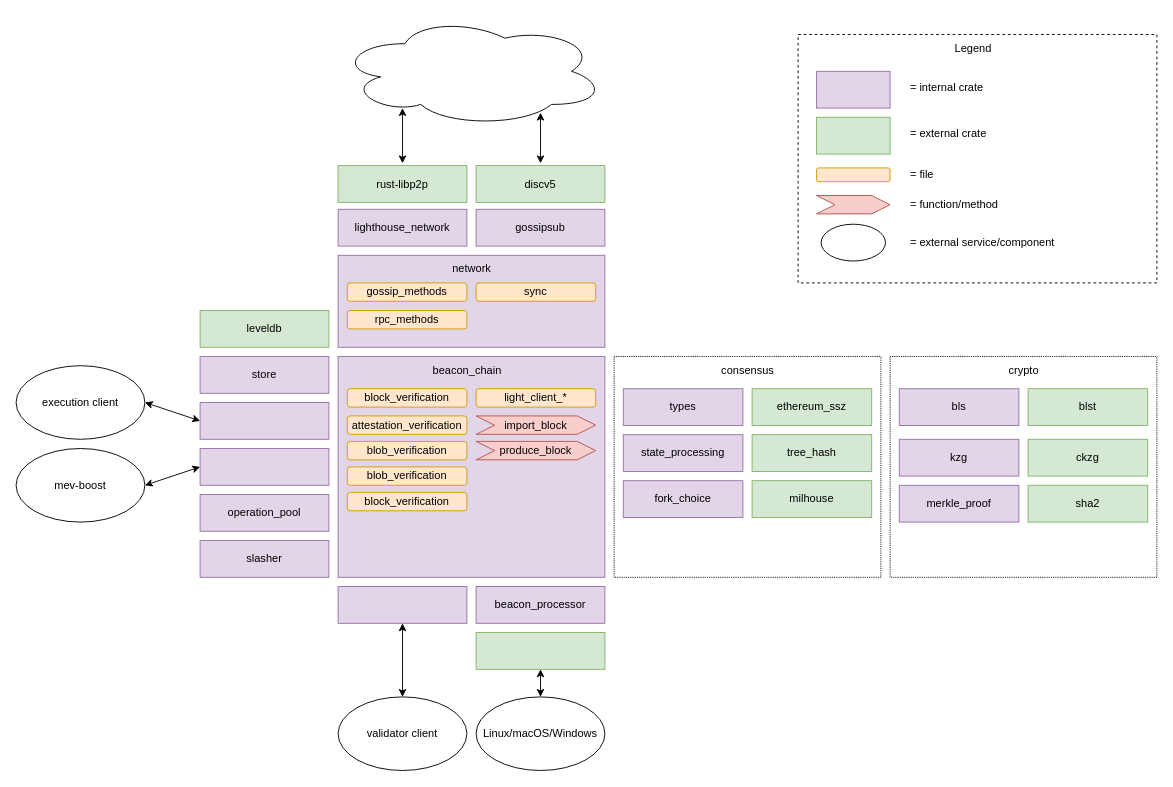
The diagram is 1173 pixels wide and 787 high, and some of its shapes have lost their labels. Here are the shapes that lost their labels. From the top down, the box of each, then its label:
(337, 15, 605, 126): p2p network
(199, 402, 329, 439): execution_layer
(199, 448, 329, 485): builder_client
(337, 586, 467, 623): http_api
(475, 632, 605, 669): tokio
